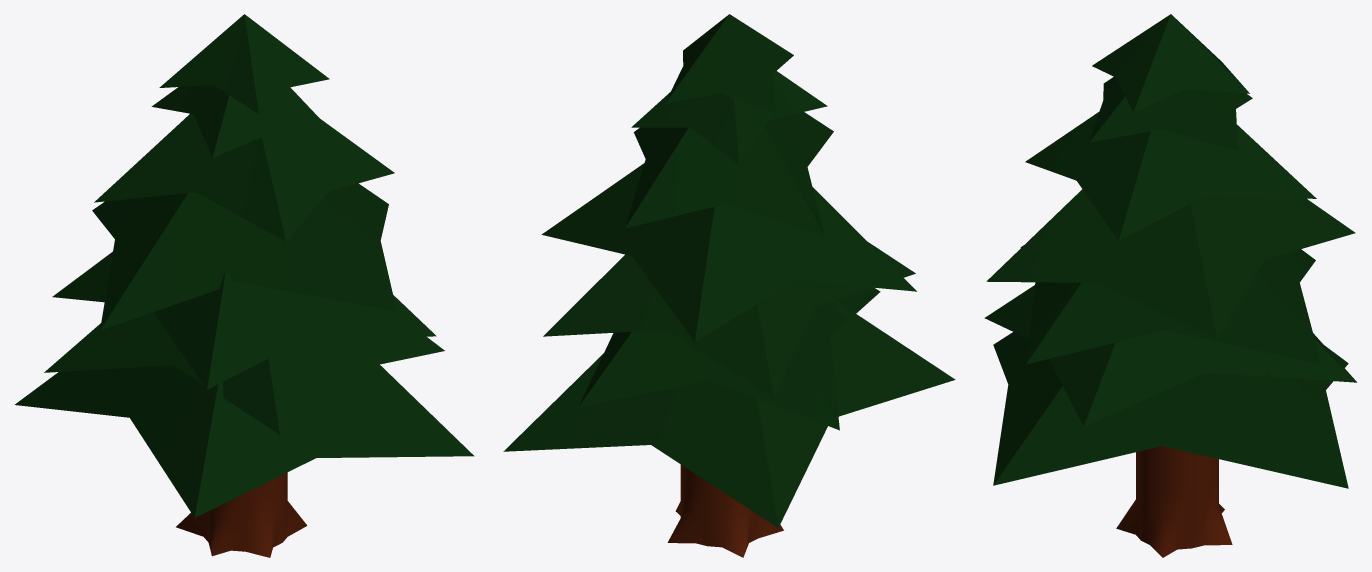
The model's file is Tree.fbx.
The picture shows the model from 3 angles, left to right: view 1: azimuth 30°, elevation 25°; view 2: azimuth 150°, elevation 25°; view 3: azimuth 270°, elevation 25°; orthographic projection.
Visible parts, largest first — view 1: Pyramid004, Pyramid006, Pyramid007, Pyramid010, Pyramid005, Pyramid009, Pyramid008, Cylinder001; view 2: Pyramid004, Pyramid006, Pyramid007, Pyramid010, Pyramid005, Pyramid009, Pyramid008, Cylinder001; view 3: Pyramid004, Pyramid006, Pyramid007, Pyramid010, Pyramid005, Cylinder001, Pyramid009, Pyramid008.
Part boxes in pixels (x1,y1,x2,y2): Pyramid004: [15, 364, 474, 517]; Pyramid006: [92, 183, 396, 330]; Pyramid007: [94, 113, 394, 241]; Pyramid010: [52, 251, 436, 389]; Pyramid005: [44, 312, 444, 434]; Pyramid009: [159, 14, 329, 114]; Pyramid008: [151, 85, 337, 157]; Cylinder001: [176, 472, 307, 557]; Pyramid004: [503, 300, 955, 527]; Pyramid006: [541, 163, 916, 341]; Pyramid007: [625, 112, 833, 237]; Pyramid010: [543, 242, 915, 397]; Pyramid005: [578, 287, 880, 430]; Pyramid009: [665, 14, 793, 113]; Pyramid008: [631, 71, 827, 164]; Cylinder001: [667, 464, 783, 557]; Pyramid004: [993, 332, 1348, 488]; Pyramid006: [986, 189, 1355, 339]; Pyramid007: [1025, 112, 1316, 240]; Pyramid010: [1020, 245, 1321, 364]; Pyramid005: [984, 285, 1356, 426]; Cylinder001: [1116, 446, 1232, 557]; Pyramid009: [1092, 14, 1249, 112]; Pyramid008: [1089, 77, 1252, 150].
Size of the model in its own units: 53.02 by 78.9 by 51.77.
